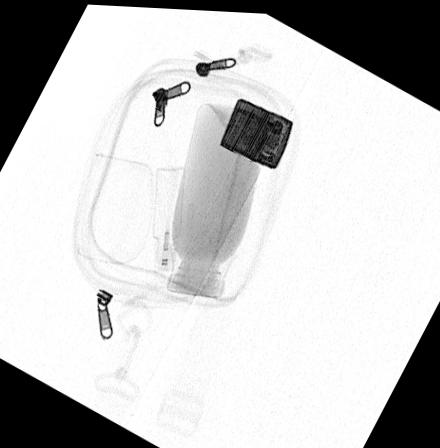Lighter: (217, 94, 293, 167)
